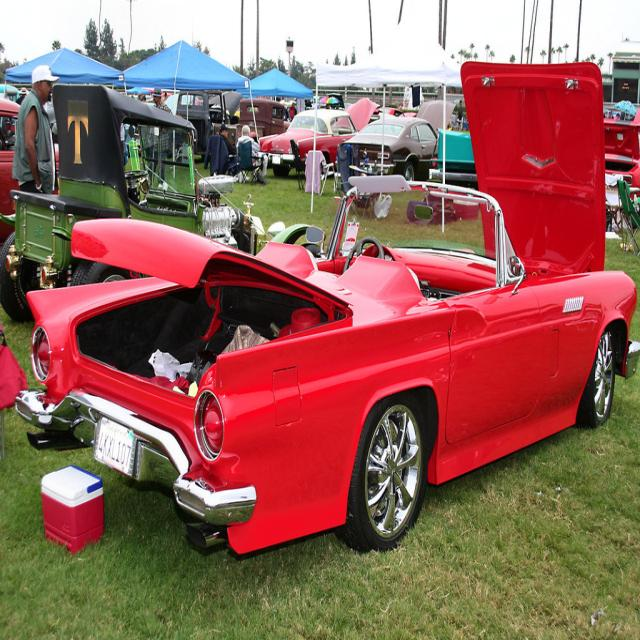car: (15, 65, 639, 549)
